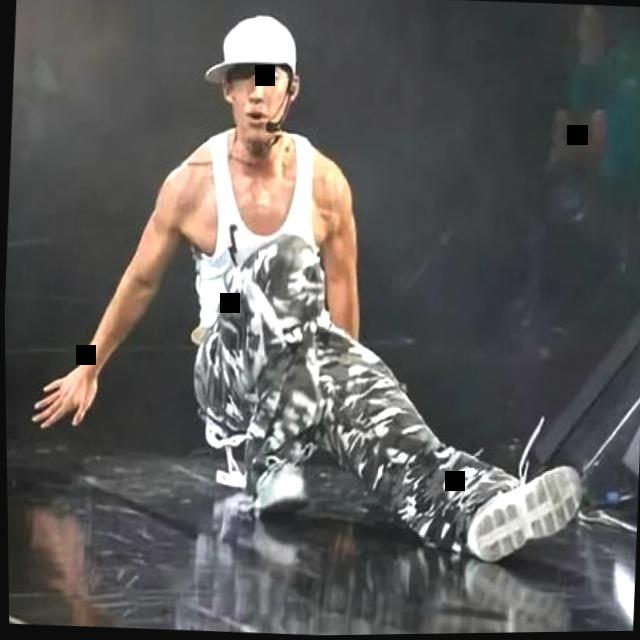Fall-Detected: (10, 0, 629, 640)
